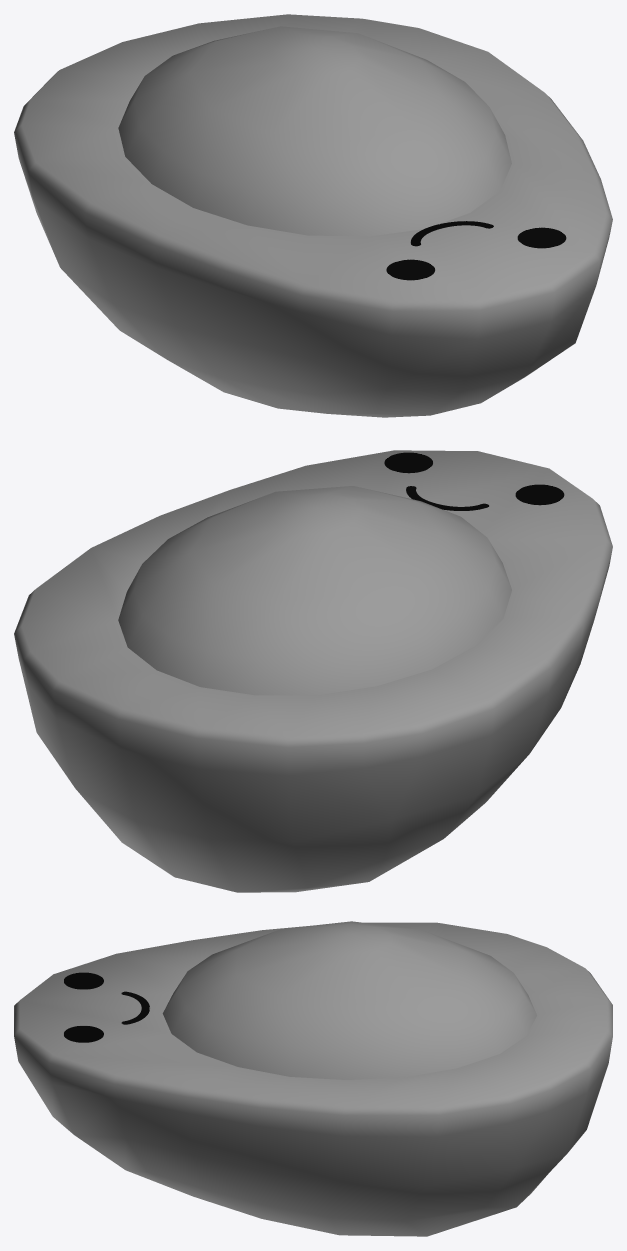
The model's file is egg_smile.fbx.
The picture shows the model from 3 angles, top to bottom: view 1: azimuth 30°, elevation 25°; view 2: azimuth 150°, elevation 25°; view 3: azimuth 270°, elevation 25°; orthographic projection. The views are drawn at different scales.
Visible parts, largest first — view 1: egg_smile; view 2: egg_smile; view 3: egg_smile.
Part boxes in pixels (bbox=[...]): egg_smile: bbox=[14, 14, 612, 417]; egg_smile: bbox=[14, 450, 612, 892]; egg_smile: bbox=[14, 921, 612, 1236].
Bounding box in the file's own units: 36.1 × 48.32 × 24.97.
2 materials, 1 textured.
